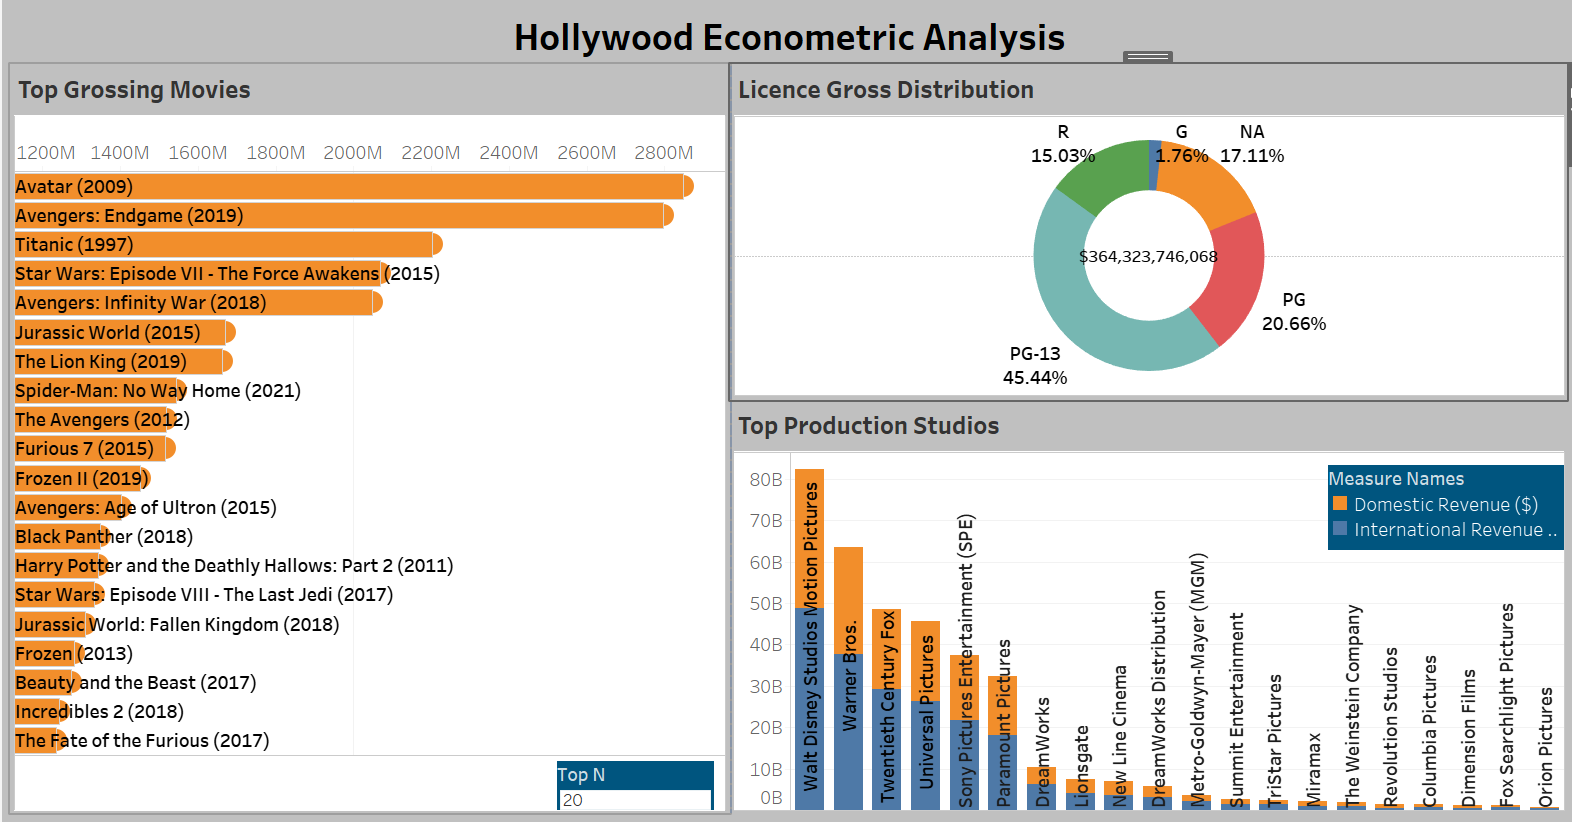

What the dashboard file says about the page in this screenshot:
{"tool":"tableau","page":{"name":"Dashboard 1","canvas":[1000,1000],"units":"permille","ordinal":0},"visuals":[{"type":"title","box":[5.1,9.7,989.8,69.2]},{"type":"worksheet","title":"Top 20 Grossing Movies","mark":"Automatic","rows":["Title"],"cols":["World Sales (in $)","World Sales (in $)"],"box":[5.1,78.9,457.1,911.4]},{"type":"worksheet","title":"Licenses Earning Ranking","mark":"Pie","rows":["Calculation_472877973258498051","Calculation_472877973258518533"],"box":[462.2,78.9,532.6,407.8]},{"type":"worksheet","title":"Top Distributors","mark":"Bar","rows":["World Sales (in $)","International Sales (in $)"],"cols":["Distributor"],"box":[462.2,486.7,532.6,503.6]},{"type":"legend","title":"Top Distributors","param":"[federated.1xv8iru09wmzde135vniv0x64ha4].[:Measure Names]","box":[841.6,566.1,150.2,103.6]},{"type":"parameter","param":"[Parameters].[Parameter 1]","box":[352.2,924.8,99.8,59.2]}]}

Visuals, with their boxes on the dashboard's canvas, which has no fixed pixel size, in thousandths of its width and height (x1, y1, x2, y2). These are canvas units, not pixel positions in the 1572x822 screenshot, which may show the page scaled, cropped or inside an application window:
title: {"x1": 5, "y1": 10, "x2": 995, "y2": 79}
"Top 20 Grossing Movies" worksheet: {"x1": 5, "y1": 79, "x2": 462, "y2": 990}
"Licenses Earning Ranking" worksheet (Pie marks): {"x1": 462, "y1": 79, "x2": 995, "y2": 487}
"Top Distributors" worksheet (Bar marks): {"x1": 462, "y1": 487, "x2": 995, "y2": 990}
"Top Distributors" legend: {"x1": 842, "y1": 566, "x2": 992, "y2": 670}
parameter: {"x1": 352, "y1": 925, "x2": 452, "y2": 984}
